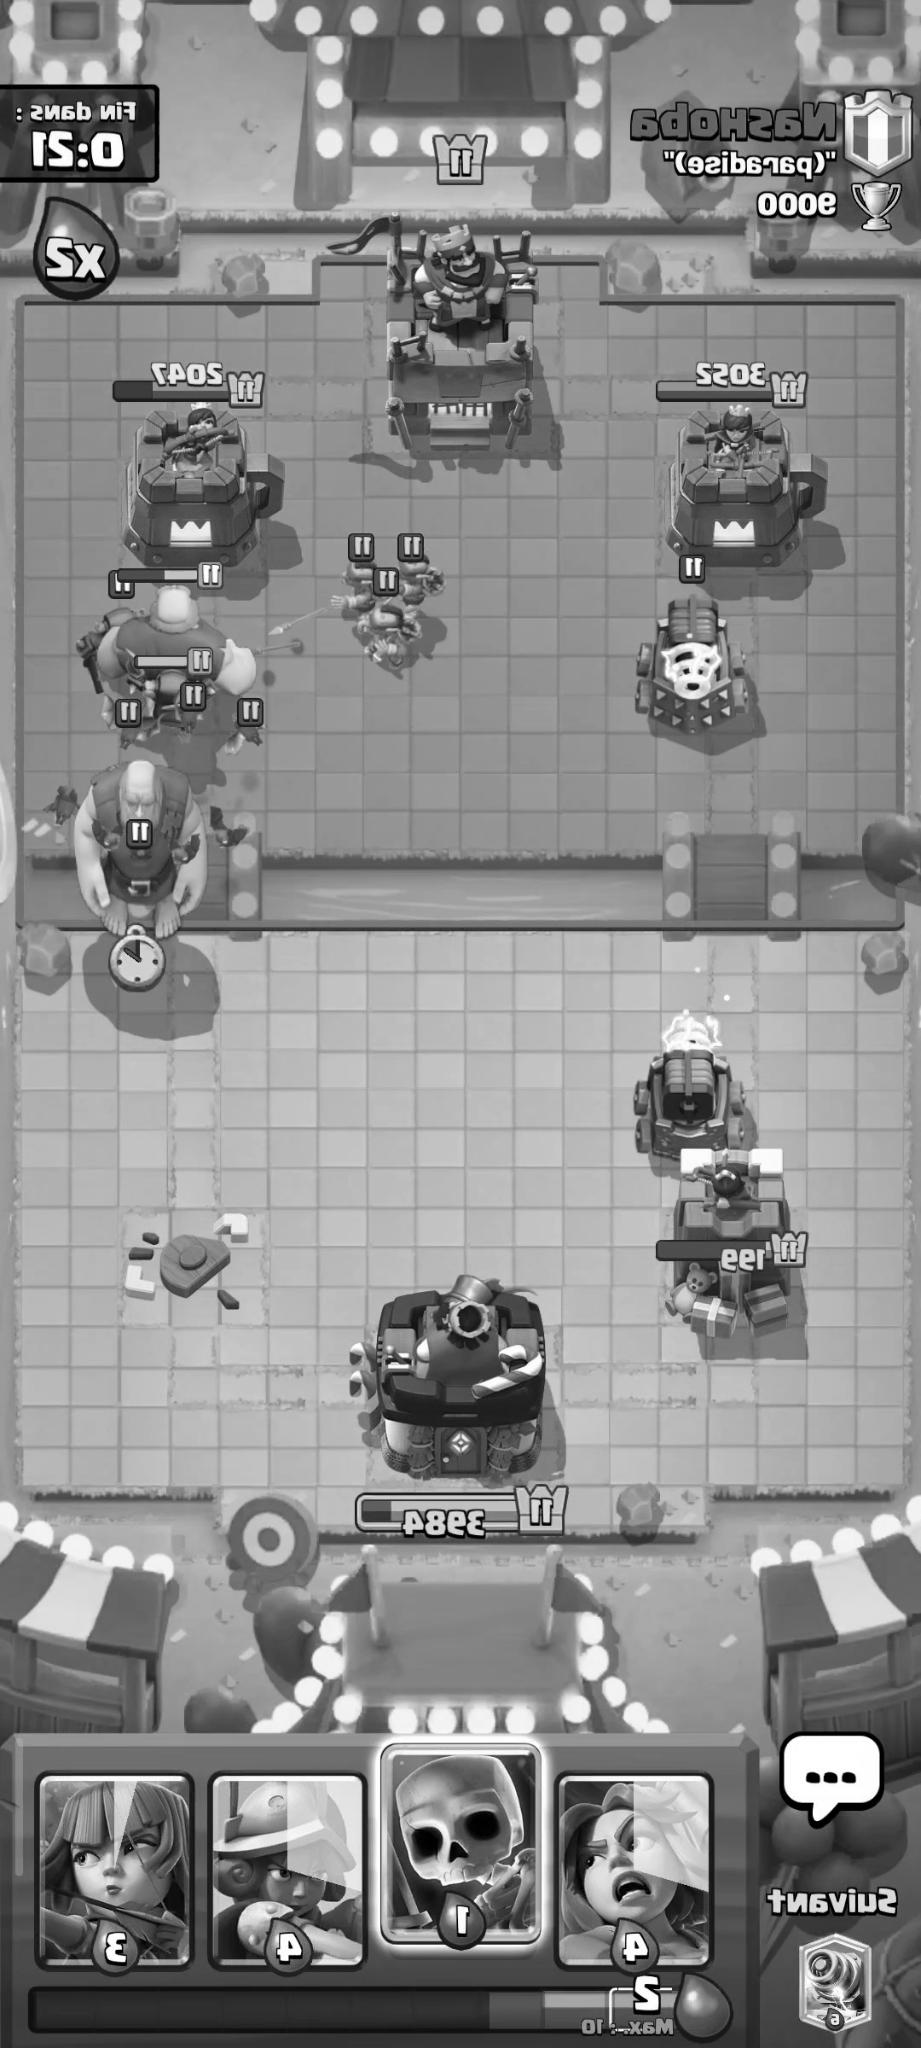bat: (225, 687, 274, 780), (150, 680, 205, 761), (197, 814, 255, 872), (43, 767, 78, 837), (112, 684, 149, 743)
geant: (115, 588, 210, 737), (111, 771, 186, 929)
gobelin_lances: (345, 590, 418, 680), (320, 559, 378, 627), (392, 545, 435, 623)
mini_PEKKA: (163, 639, 210, 721), (98, 598, 148, 670)
valkyrie: (119, 896, 174, 991)
zappy: (611, 1016, 756, 1191), (630, 581, 732, 754)
